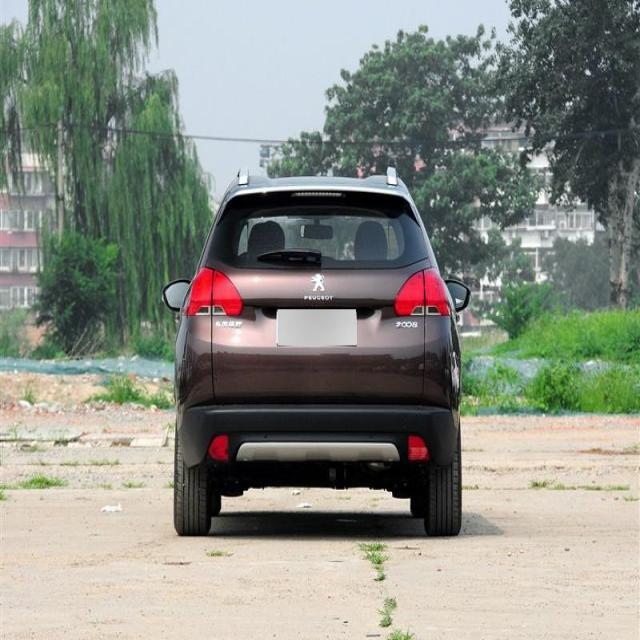back_glass: (209, 187, 428, 269)
back_left_side_light: (186, 263, 244, 321)
back_right_side_light: (393, 268, 449, 320)
front_left_side_mirror: (163, 277, 191, 309)
front_right_side_mirror: (444, 272, 472, 310)
rear_bumper: (174, 394, 460, 475)
